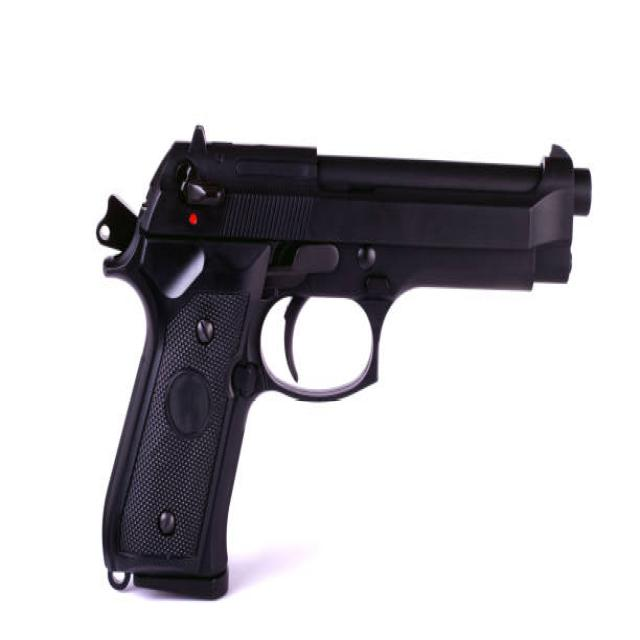pistol: (81, 106, 604, 607)
